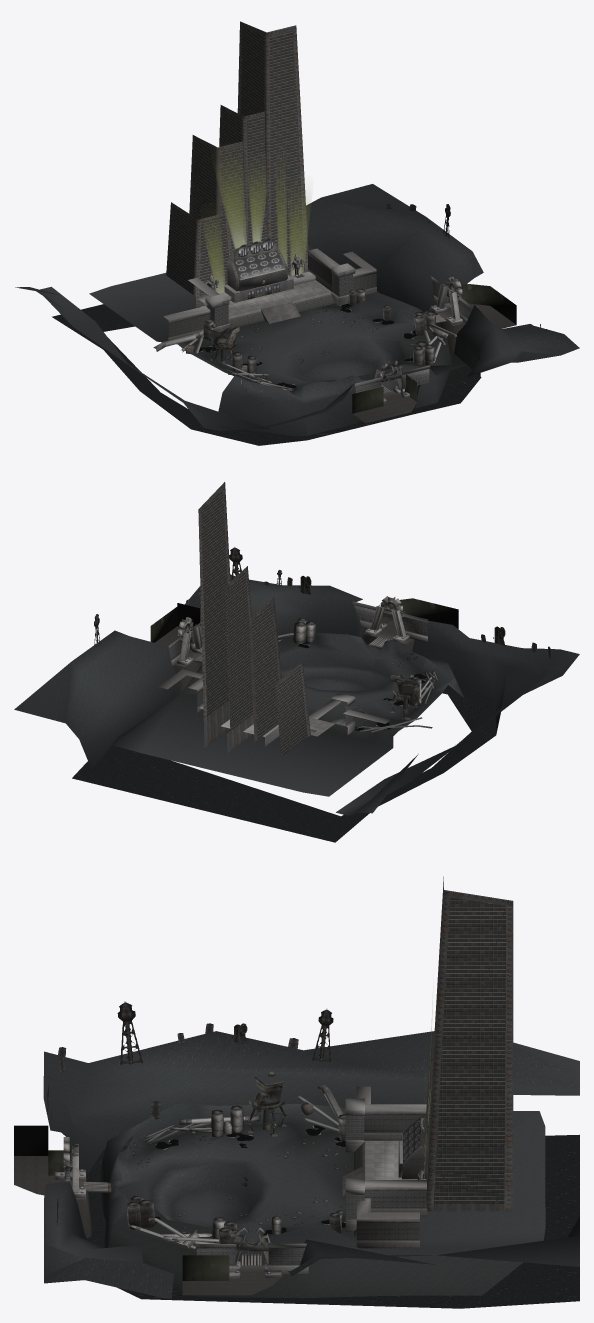
Rendered from sellbot_courtyard.glb.
3 views of the same model, one above another, from view 1: azimuth 30°, elevation 25°; view 2: azimuth 150°, elevation 25°; view 3: azimuth 270°, elevation 25° (orthographic). The views are drawn at different scales.
Parts seen in each view (by area): view 1: polySurface81, polySurface82, TallTower4, Water, TallTower3, TallTower2, TallTower1, Box, s_tunnel_walls (×2), Spot2, tunnel_floor_1 (×2), polySurface6 (+12 smaller); view 2: polySurface82, polySurface81, Water, TallTower4, TallTower1, TallTower2, TallTower3, s_tunnel_walls (×2), WaterTower, HQWall; view 3: polySurface81, polySurface82, TallTower4, Water, tunnel_floor_1 (×2), s_tunnel_walls (×2), HQWall6, HQWall4, HQWall7, Box, polySurface6, WaterTower (+7 smaller).
Boxes of the visible parts, x1=… form: polySurface81: x1=89, y1=244, x2=452, y2=436; polySurface82: x1=15, y1=184, x2=579, y2=431; TallTower4: x1=237, y1=21, x2=308, y2=275; Water: x1=52, y1=290, x2=481, y2=445; TallTower3: x1=166, y1=202, x2=232, y2=307; TallTower2: x1=189, y1=135, x2=244, y2=280; TallTower1: x1=219, y1=105, x2=266, y2=278; Box: x1=227, y1=241, x2=287, y2=291; s_tunnel_walls (×2): x1=352, y1=283, x2=516, y2=413; Spot2: x1=216, y1=163, x2=246, y2=248; tunnel_floor_1 (×2): x1=352, y1=303, x2=516, y2=423; polySurface6: x1=200, y1=280, x2=330, y2=316; polySurface82: x1=14, y1=574, x2=579, y2=815; polySurface81: x1=113, y1=632, x2=463, y2=796; Water: x1=72, y1=685, x2=496, y2=842; TallTower4: x1=198, y1=482, x2=230, y2=747; TallTower1: x1=224, y1=566, x2=253, y2=752; TallTower2: x1=249, y1=597, x2=281, y2=741; TallTower3: x1=275, y1=662, x2=310, y2=756; s_tunnel_walls (×2): x1=150, y1=598, x2=458, y2=642; WaterTower: x1=390, y1=672, x2=420, y2=719; HQWall: x1=331, y1=693, x2=355, y2=734; polySurface81: x1=98, y1=1103, x2=545, y2=1298; polySurface82: x1=43, y1=1031, x2=579, y2=1302; TallTower4: x1=426, y1=876, x2=513, y2=1211; Water: x1=87, y1=1134, x2=579, y2=1308; tunnel_floor_1 (×2): x1=14, y1=1156, x2=284, y2=1295; s_tunnel_walls (×2): x1=14, y1=1125, x2=229, y2=1280; HQWall6: x1=356, y1=1198, x2=419, y2=1248; HQWall4: x1=365, y1=1180, x2=427, y2=1216; HQWall7: x1=363, y1=1104, x2=426, y2=1140; Box: x1=398, y1=1116, x2=428, y2=1179; polySurface6: x1=365, y1=1140, x2=402, y2=1179; WaterTower: x1=247, y1=1071, x2=286, y2=1137.
Size of the model in its own units: 427 by 322 by 446.
50 materials, 49 textured.
